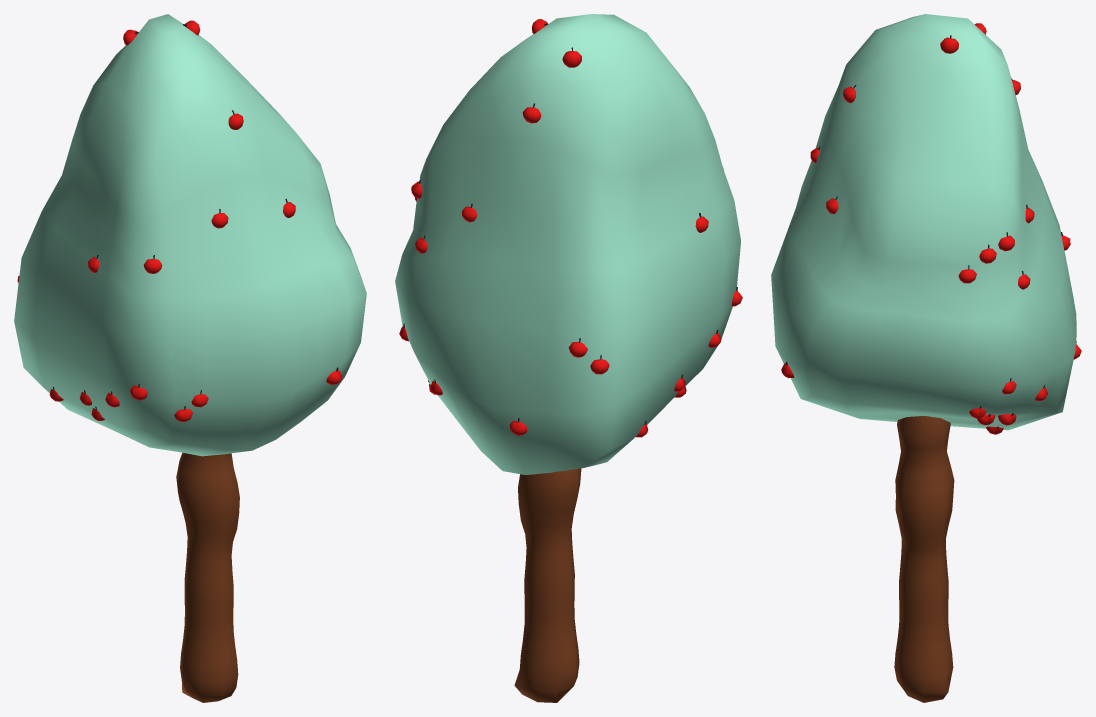
The picture shows the model from 3 angles, left to right: view 1: azimuth 30°, elevation 25°; view 2: azimuth 150°, elevation 25°; view 3: azimuth 270°, elevation 25°; orthographic projection. The views are drawn at different scales.
Visible parts, largest first — view 1: BUSH ONE.004, Tree.004; view 2: BUSH ONE.004, Tree.004; view 3: BUSH ONE.004, Tree.004.
Part boxes in pixels (x1,y1,x2,y2): BUSH ONE.004: (14, 14, 366, 456); Tree.004: (176, 452, 239, 702); BUSH ONE.004: (395, 14, 740, 474); Tree.004: (514, 468, 581, 702); BUSH ONE.004: (771, 14, 1076, 430); Tree.004: (894, 415, 954, 702).
Size of the model in its own units: 1251 by 2945 by 1186.
